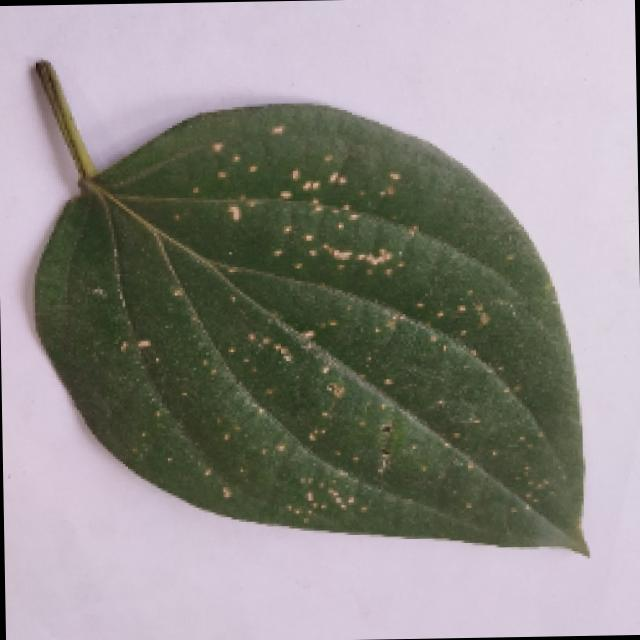pollu-disease: (26, 61, 584, 566)
